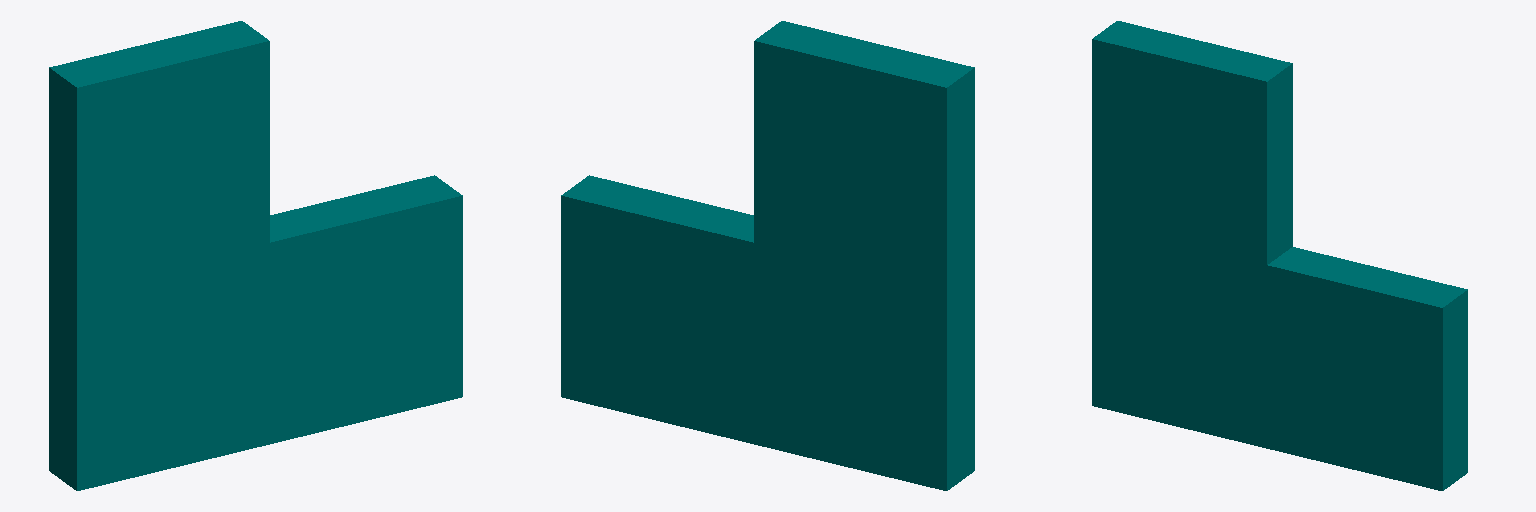
URDF robot description (L):
<?xml version="1.0" encoding="utf-8"?>
<!-- This URDF was automatically created by SolidWorks to URDF Exporter! Originally created by [author] ([email redacted]) 
     Commit Version: 1.6.0-4-g7f85cfe  Build Version: 1.6.7995.38578
     For more information, please see http://wiki.ros.org/sw_urdf_exporter -->
<robot
  name="L">
  <link
    name="base_link">
    <inertial>
      <origin
        xyz="-0.16667 -1.0205E-17 -0.16667"
        rpy="0 0 0" />
      <mass
        value="750" />
      <inertia
        ixx="233.07"
        ixy="2.4715E-15"
        ixz="83.333"
        iyy="458.33"
        iyz="-1.4226E-14"
        izz="233.07" />
    </inertial>
    <visual>
      <origin
        xyz="0 0 0"
        rpy="0 0 0" />
      <geometry>
        <mesh
          filename="package://L/meshes/base_link.STL" />
      </geometry>
      <material
        name="">
        <color
          rgba="0 0.50196 0.50196 1" />
      </material>
    </visual>
    <collision>
      <origin
        xyz="0 0 0"
        rpy="0 0 0" />
      <geometry>
        <mesh
          filename="package://L/meshes/base_link.STL" />
      </geometry>
    </collision>
  </link>
</robot>

--- Render facts (derived) ---
The picture shows the robot from 3 angles, left to right: view 1: azimuth 30°, elevation 25°; view 2: azimuth 150°, elevation 25°; view 3: azimuth 330°, elevation 25°; orthographic projection.
Robot: L — 1 links, 0 joints (none); root link base_link; default pose: every joint at zero.
Links seen in each view (by area): view 1: base_link; view 2: base_link; view 3: base_link.
Boxes of the visible links, <box> form: base_link: <box>49,21,462,490</box>; base_link: <box>561,21,974,490</box>; base_link: <box>1092,21,1467,490</box>.
Bounding box of the posed robot: 2 × 0.25 × 2 m (x, y, z).
Meshes: 1 distinct files referenced, 1 mesh visuals loaded (1 binary STL).